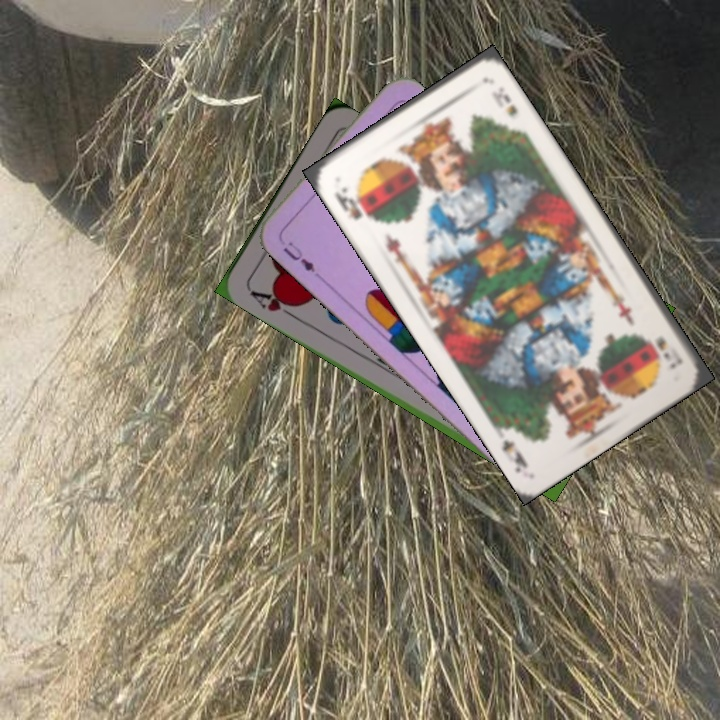EU: (274, 233, 318, 275)
HA: (244, 284, 303, 321)
SK: (330, 182, 376, 225), (651, 331, 685, 372)
